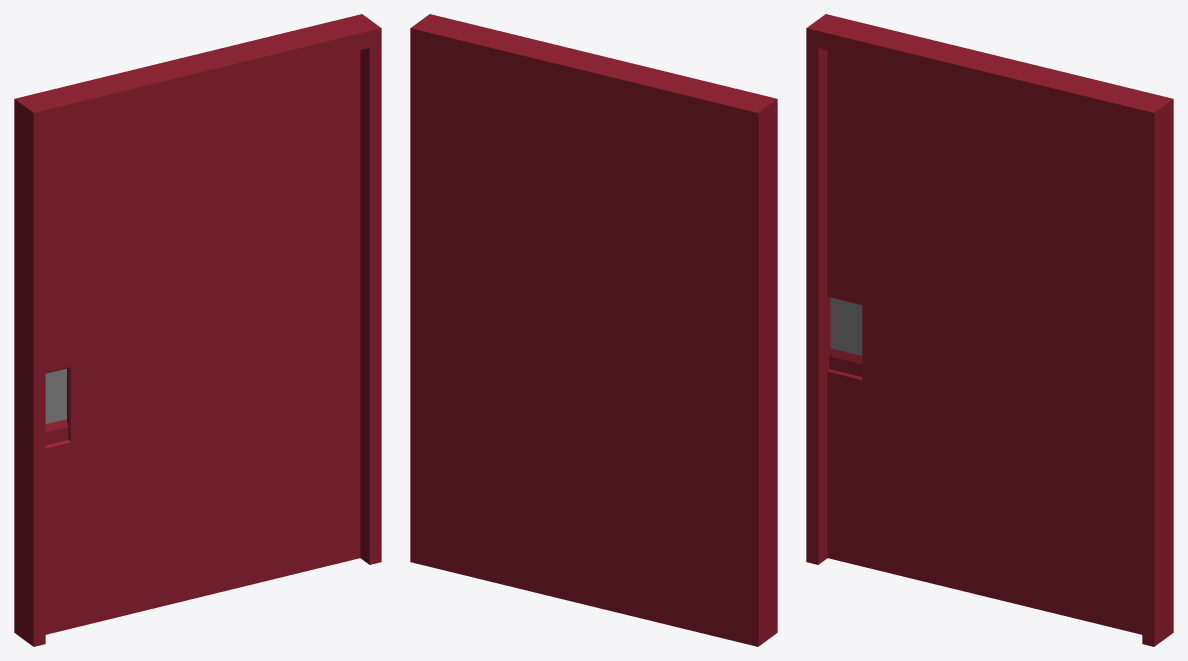
Rendered from ApartmentDoor 1.fbx.
The picture shows the model from 3 angles, left to right: view 1: azimuth 30°, elevation 25°; view 2: azimuth 150°, elevation 25°; view 3: azimuth 330°, elevation 25°; orthographic projection.
Parts seen in each view (by area): view 1: Door; view 2: Door; view 3: Door.
Part boxes in pixels (box(x1,y1,x2,y2)): Door: box(14, 14, 381, 646); Door: box(410, 14, 777, 646); Door: box(806, 14, 1173, 646).
Size of the model in its own units: 147 by 216 by 14.18.
